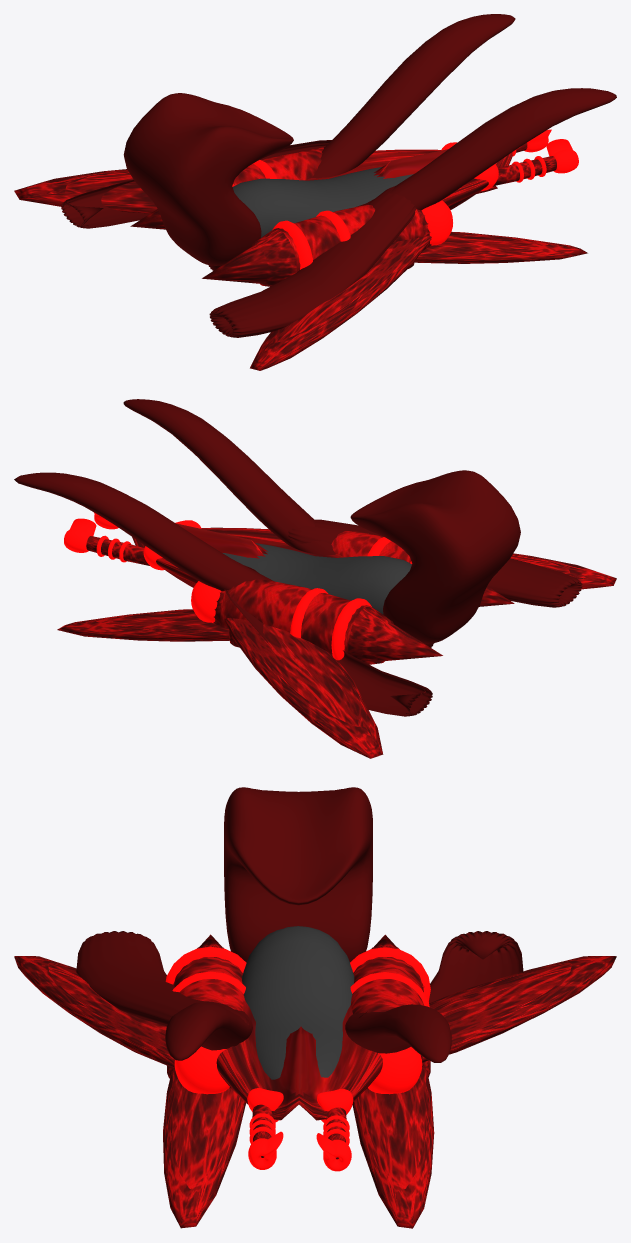
The model's file is crim_heavy.fbx.
3 renders of one model, top to bottom at view 1: azimuth 30°, elevation 25°; view 2: azimuth 150°, elevation 25°; view 3: azimuth 270°, elevation 25°, orthographic. The views are drawn at different scales.
Parts seen in each view (by area): view 1: tail, exhaust1, set3_medium:arms4, arms5, set3_medium:arms1 (×2), arms4, set3_medium:cockpit, set3_medium:sideBarrel1, set3_medium:body, exhaust2, set3_medium:sideBarrel, frontSphere1 (+3 smaller); view 2: tail, set3_medium:arms1, set3_medium:sideBarrel, set3_medium:arms4, arms5, set3_medium:cockpit, exhaust1, set3_medium:arms2, exhaust2, set3_medium:body, set3_medium:sideBarrel1, arms4 (+5 smaller); view 3: tail, set3_medium:arms1 (×2), set3_medium:cockpit, set3_medium:arms2, set3_medium:body, exhaust1, arms4, set3_medium:arms4, exhaust2, arms5, set3_medium:sideBarrel, set3_medium:sideBarrel1 (+10 smaller).
Boxes of the visible parts, x1,y1,x2,y2 form: tail: [123, 93, 293, 265]; exhaust1: [209, 186, 416, 337]; set3_medium:arms4: [312, 14, 515, 178]; arms5: [362, 88, 616, 210]; set3_medium:arms1 (×2): [14, 169, 587, 263]; arms4: [250, 235, 431, 370]; set3_medium:cockpit: [232, 167, 413, 237]; set3_medium:sideBarrel1: [202, 204, 431, 286]; set3_medium:body: [305, 149, 512, 209]; exhaust2: [61, 140, 331, 228]; set3_medium:sideBarrel: [130, 147, 324, 229]; frontSphere1: [421, 200, 452, 245]; tail: [350, 470, 520, 643]; set3_medium:arms1: [224, 618, 383, 758]; set3_medium:sideBarrel: [213, 579, 442, 664]; set3_medium:arms4: [14, 472, 273, 590]; arms5: [123, 399, 335, 554]; set3_medium:cockpit: [222, 543, 411, 614]; exhaust1: [288, 519, 582, 607]; set3_medium:arms2: [57, 609, 229, 641]; exhaust2: [224, 565, 432, 716]; set3_medium:body: [132, 523, 344, 587]; set3_medium:sideBarrel1: [331, 531, 514, 606]; arms4: [510, 553, 616, 589]; tail: [224, 787, 372, 962]; set3_medium:arms1 (×2): [163, 956, 616, 1228]; set3_medium:cockpit: [242, 926, 354, 1079]; set3_medium:arms2: [352, 1067, 434, 1228]; set3_medium:body: [216, 999, 382, 1120]; exhaust1: [76, 931, 250, 1028]; arms4: [14, 956, 174, 1067]; set3_medium:arms4: [345, 1004, 451, 1062]; exhaust2: [358, 931, 523, 1018]; arms5: [165, 1002, 252, 1060]; set3_medium:sideBarrel: [351, 934, 424, 1088]; set3_medium:sideBarrel1: [173, 934, 244, 1088].
Size of the model in its own units: 11.21 by 4.75 by 11.08.
